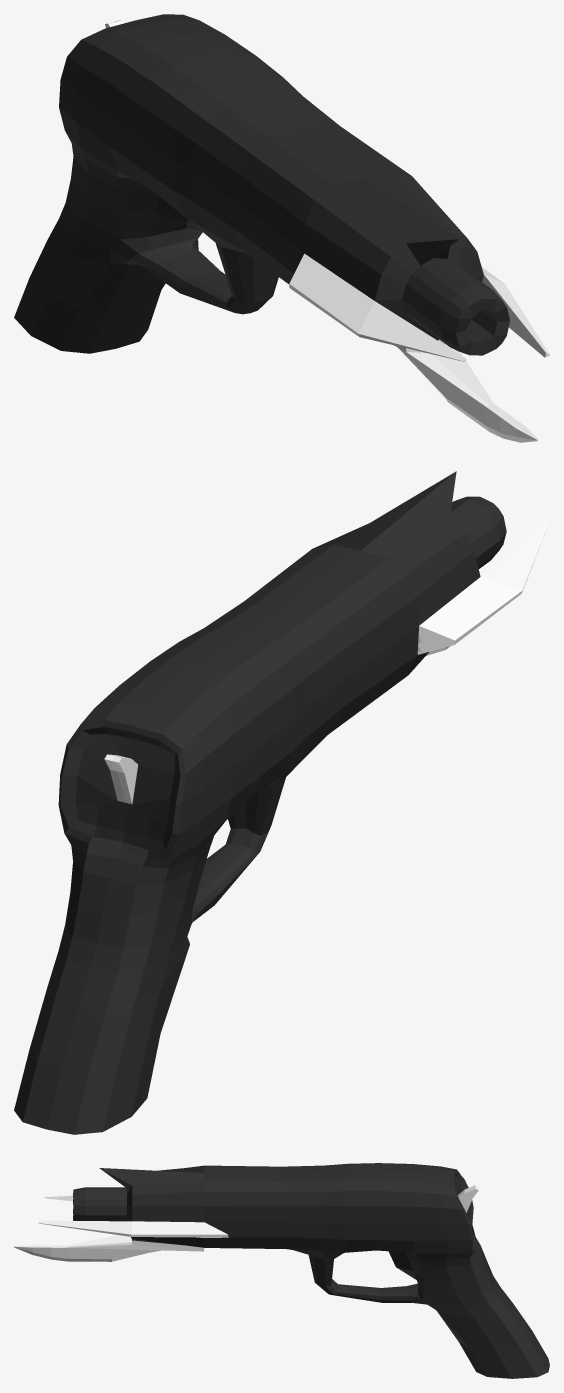
The model's file is Alien_Pistol.fbx.
The picture shows the model from 3 angles, top to bottom: view 1: azimuth 30°, elevation 25°; view 2: azimuth 150°, elevation 25°; view 3: azimuth 270°, elevation 25°; orthographic projection. The views are drawn at different scales.
Parts seen in each view (by area): view 1: Cube; view 2: Cube; view 3: Cube.
Boxes of the visible parts, <box> form: Cube: <box>14,14,549,442</box>; Cube: <box>14,471,549,1134</box>; Cube: <box>14,1163,549,1378</box>.
Bounding box in the file's own units: 295 × 637 × 1568.
